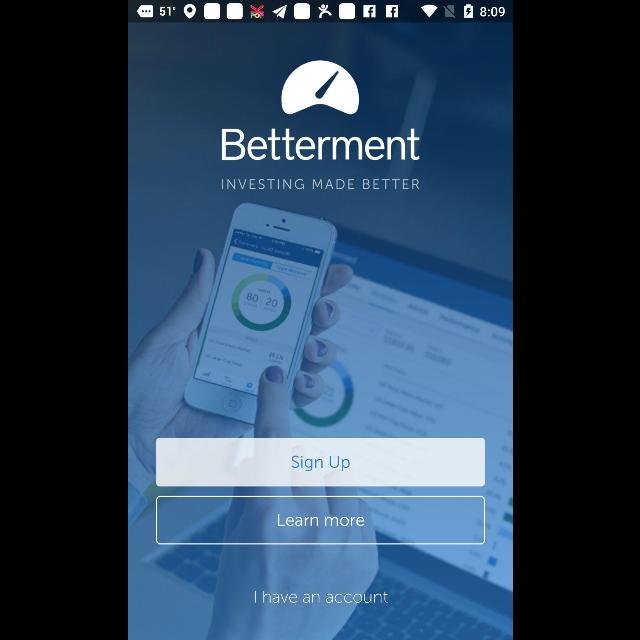backgroundimage: (128, 22, 512, 640)
image: (280, 61, 358, 116)
text: (220, 128, 420, 162), (220, 178, 420, 190), (253, 590, 387, 604)
textbutton: (156, 438, 484, 487), (156, 496, 484, 544)
uppertaskbar: (128, 1, 512, 23)
